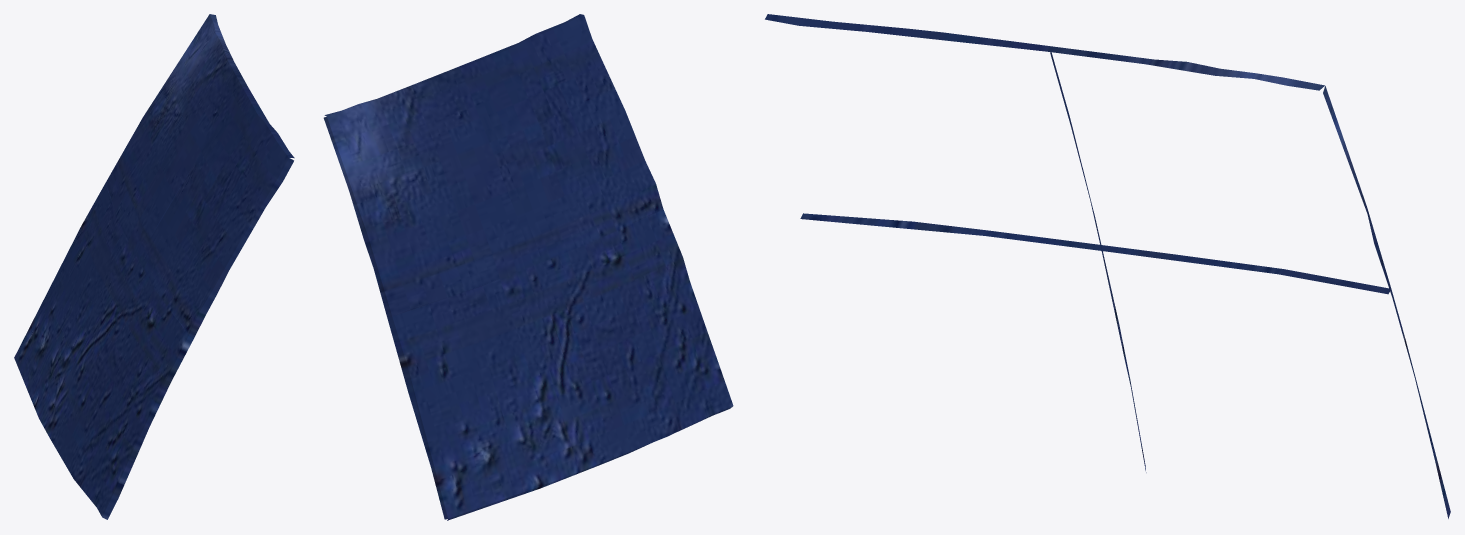
3 views of the same model, side by side, from view 1: azimuth 30°, elevation 25°; view 2: azimuth 150°, elevation 25°; view 3: azimuth 270°, elevation 25° (orthographic). The views are drawn at different scales.
Bounding box in the file's own units: 899069 × 1119029 × 1237867.
1 material, 1 textured.
